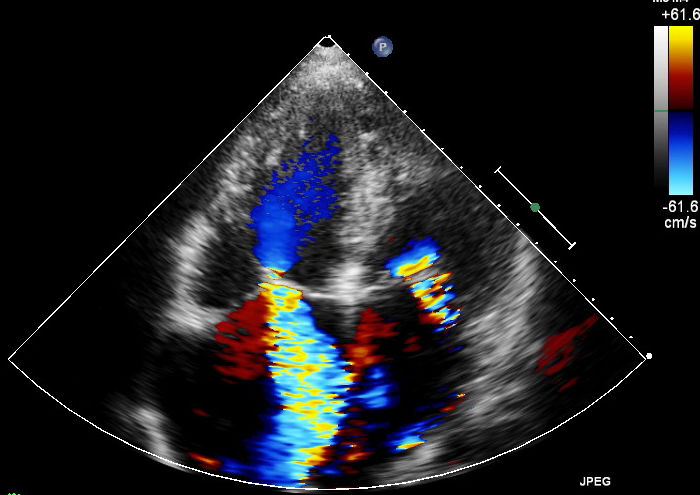MR: (381, 244, 460, 324)
